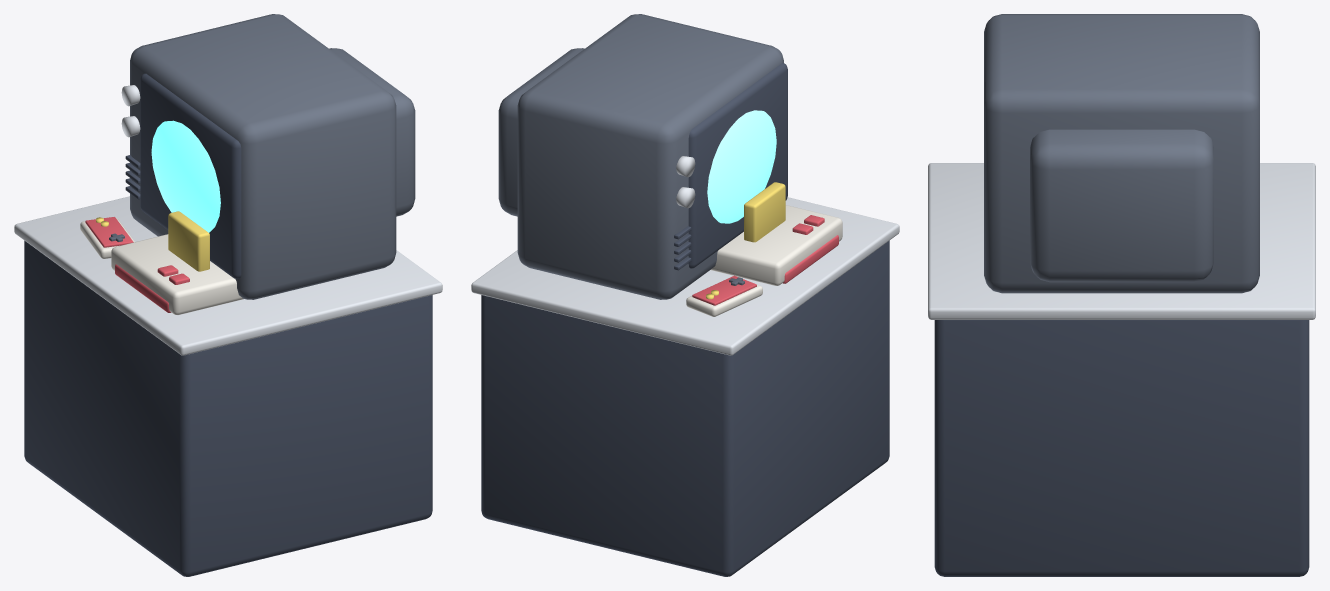
The model's file is retro_arcade_station.glb.
3 views of the same model, side by side, from view 1: azimuth 30°, elevation 25°; view 2: azimuth 150°, elevation 25°; view 3: azimuth 270°, elevation 25° (orthographic). The views are drawn at different scales.
Visible parts, largest first — view 1: DisplayStand, CrtCabinet, StandTrim, CrtBezel, CrtCurvedGlass, ConsoleBase, CrtRearTube, Cartridge, GamepadFace, ConsoleAccent; view 2: DisplayStand, CrtCabinet, StandTrim, CrtBezel, CrtCurvedGlass, ConsoleBase, CrtRearTube, Cartridge, Gamepad, GamepadFace, ConsoleAccent; view 3: DisplayStand, CrtCabinet, CrtRearTube, StandTrim.
Part boxes in pixels (x1=…): DisplayStand: x1=24, y1=240, x2=432, y2=576; CrtCabinet: x1=130, y1=14, x2=396, y2=299; StandTrim: x1=14, y1=196, x2=442, y2=355; CrtBezel: x1=140, y1=73, x2=241, y2=278; CrtCurvedGlass: x1=151, y1=120, x2=220, y2=232; ConsoleBase: x1=111, y1=234, x2=243, y2=314; CrtRearTube: x1=329, y1=48, x2=415, y2=216; Cartridge: x1=168, y1=211, x2=209, y2=271; GamepadFace: x1=85, y1=217, x2=133, y2=247; ConsoleAccent: x1=115, y1=264, x2=171, y2=312; DisplayStand: x1=481, y1=240, x2=889, y2=576; CrtCabinet: x1=517, y1=14, x2=783, y2=299; StandTrim: x1=471, y1=197, x2=899, y2=355; CrtBezel: x1=688, y1=63, x2=787, y2=268; CrtCurvedGlass: x1=707, y1=110, x2=776, y2=223; ConsoleBase: x1=711, y1=205, x2=842, y2=285; CrtRearTube: x1=498, y1=48, x2=584, y2=216; Cartridge: x1=744, y1=182, x2=785, y2=242; Gamepad: x1=686, y1=284, x2=762, y2=316; GamepadFace: x1=692, y1=275, x2=756, y2=305; ConsoleAccent: x1=783, y1=235, x2=838, y2=283; DisplayStand: x1=934, y1=320, x2=1309, y2=576; CrtCabinet: x1=984, y1=14, x2=1259, y2=293; CrtRearTube: x1=1030, y1=129, x2=1213, y2=282; StandTrim: x1=928, y1=163, x2=1315, y2=319.
Size of the model in its own units: 1.15 by 1.6 by 1.18.
